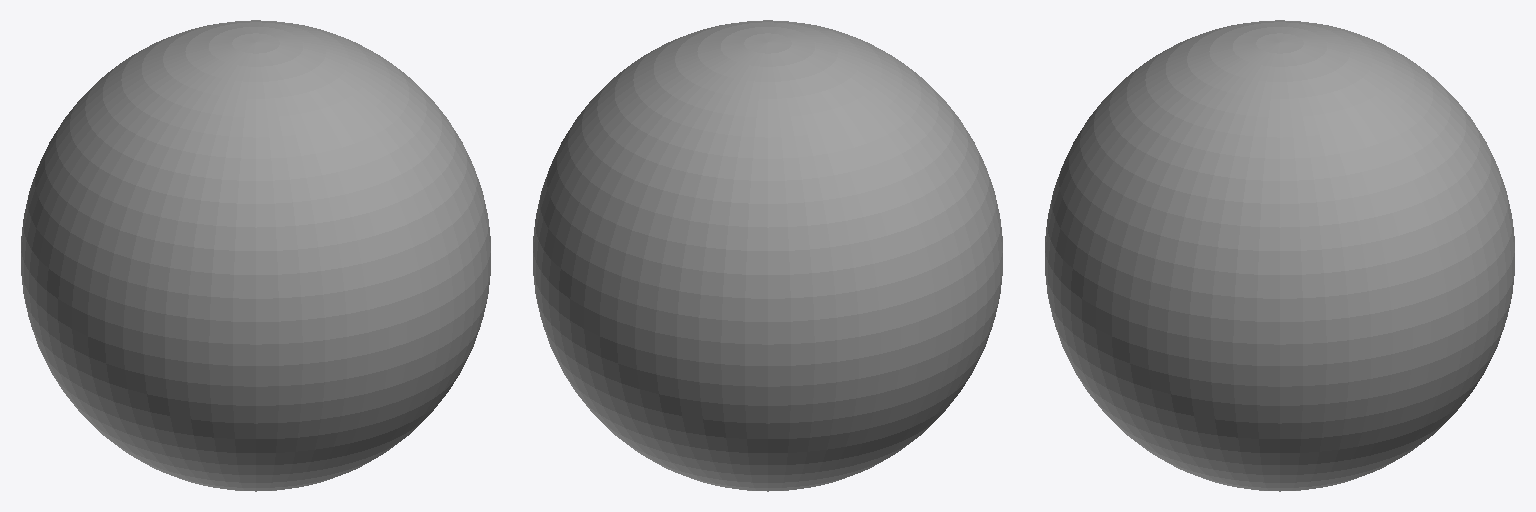
The robot description file, URDF, robot "ball":
<?xml version='1.0' encoding='utf-8'?>
<robot name="ball">
  <link name="ball">
    <inertial>
      <mass value=".25" />
      <origin rpy="0 0 0" xyz="0 0 0" />
      <inertia ixx="1e-4" ixy="0" ixz="0" iyy="1e-4" iyz="0" izz="1e-4" />
    </inertial>
    <visual>
      <origin rpy="0 0 0" xyz="0 0 0" />
      <geometry>
        
        <mesh filename="textured_objs/textured.obj" />
      </geometry>
      <material name="Grey">
        <color rgba="0.65 0.65 0.65 1" />
      </material>
    </visual>
    <collision>
      <origin rpy="0 0 0" xyz="0 0 0" />
      <geometry>
        
        <mesh filename="textured_objs/collision.obj" />
      </geometry>
    </collision>
  </link>
</robot>

--- Facts derived from the render (not from the file) ---
3 views of the same robot in one strip: view 1: azimuth 30°, elevation 25°; view 2: azimuth 150°, elevation 25°; view 3: azimuth 270°, elevation 25° (orthographic).
Robot: ball — 1 links, 0 joints (none); root link ball; default pose: every joint at zero.
Visible links, largest first — view 1: ball; view 2: ball; view 3: ball.
Boxes of the visible links, box(x1,y1,x2,y2) form: ball: box(21, 20, 490, 491); ball: box(533, 20, 1002, 491); ball: box(1045, 20, 1514, 491).
Bounding box of the posed robot: 0.0639 × 0.0639 × 0.064 m (x, y, z).
Meshes: 1 distinct files referenced, 1 mesh visuals loaded (1 OBJ).